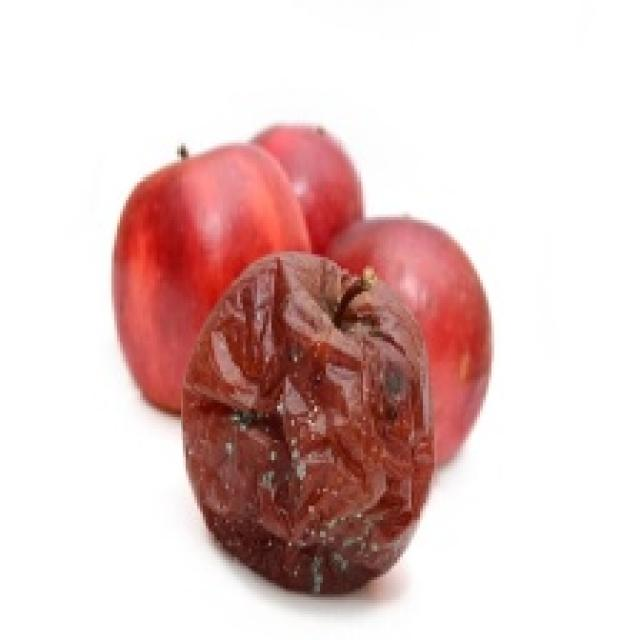rotten_apple: (188, 256, 429, 586)
